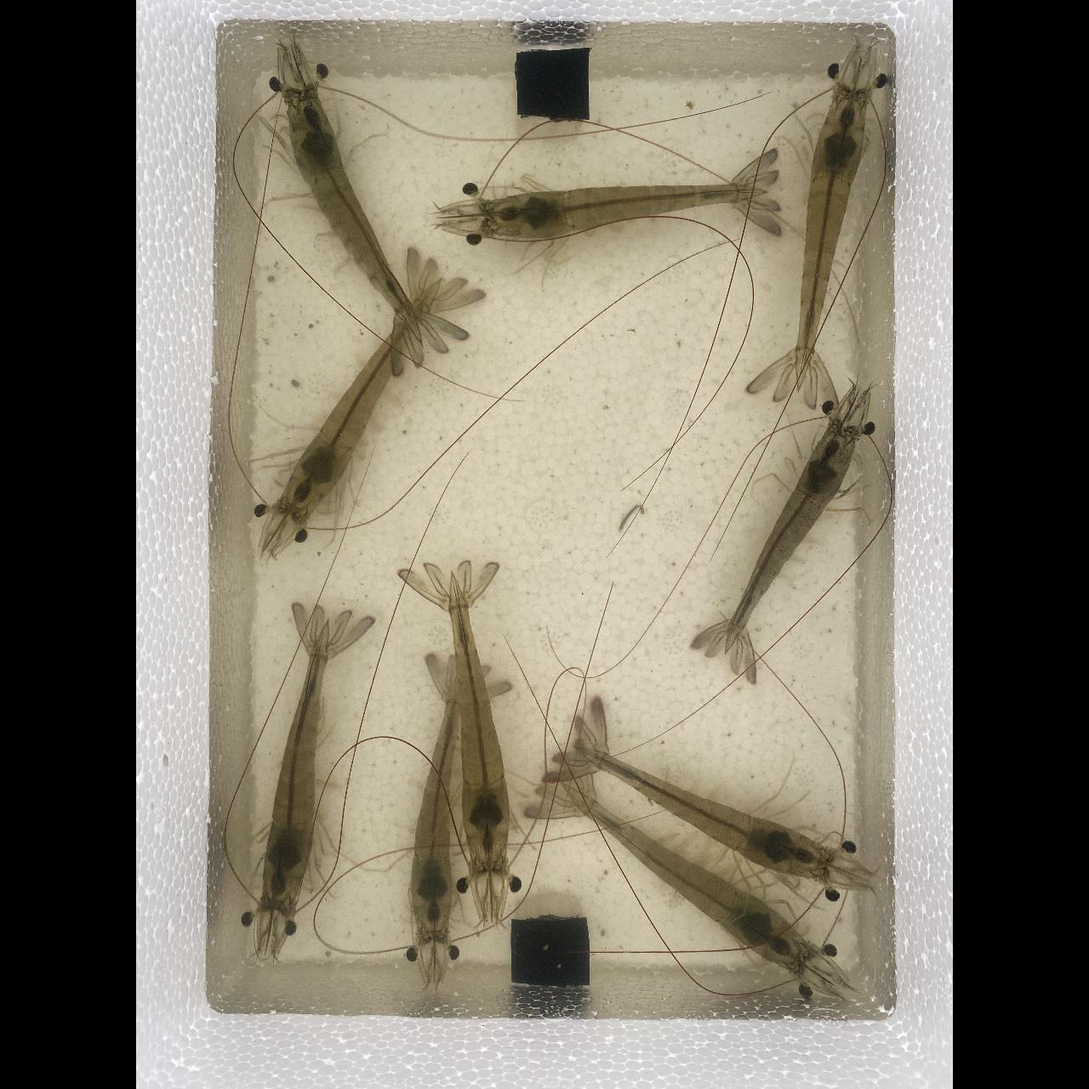box: (510, 917, 590, 989), (516, 49, 589, 121)
top_shrimp: (562, 774, 808, 972), (286, 94, 425, 339), (572, 747, 827, 878), (721, 430, 852, 652), (281, 316, 415, 516), (796, 90, 864, 386), (262, 630, 325, 910), (456, 584, 509, 873), (485, 185, 761, 240), (412, 670, 459, 941)
